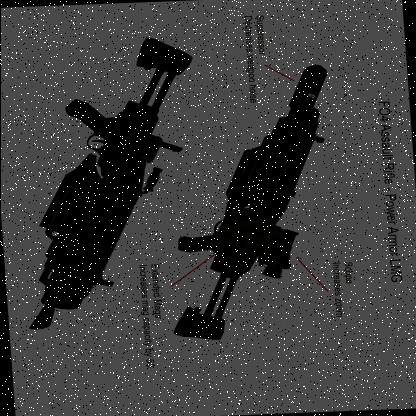rifle: (3, 31, 184, 322)
